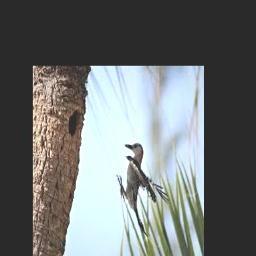Woodpecker: (116, 144, 170, 236)
